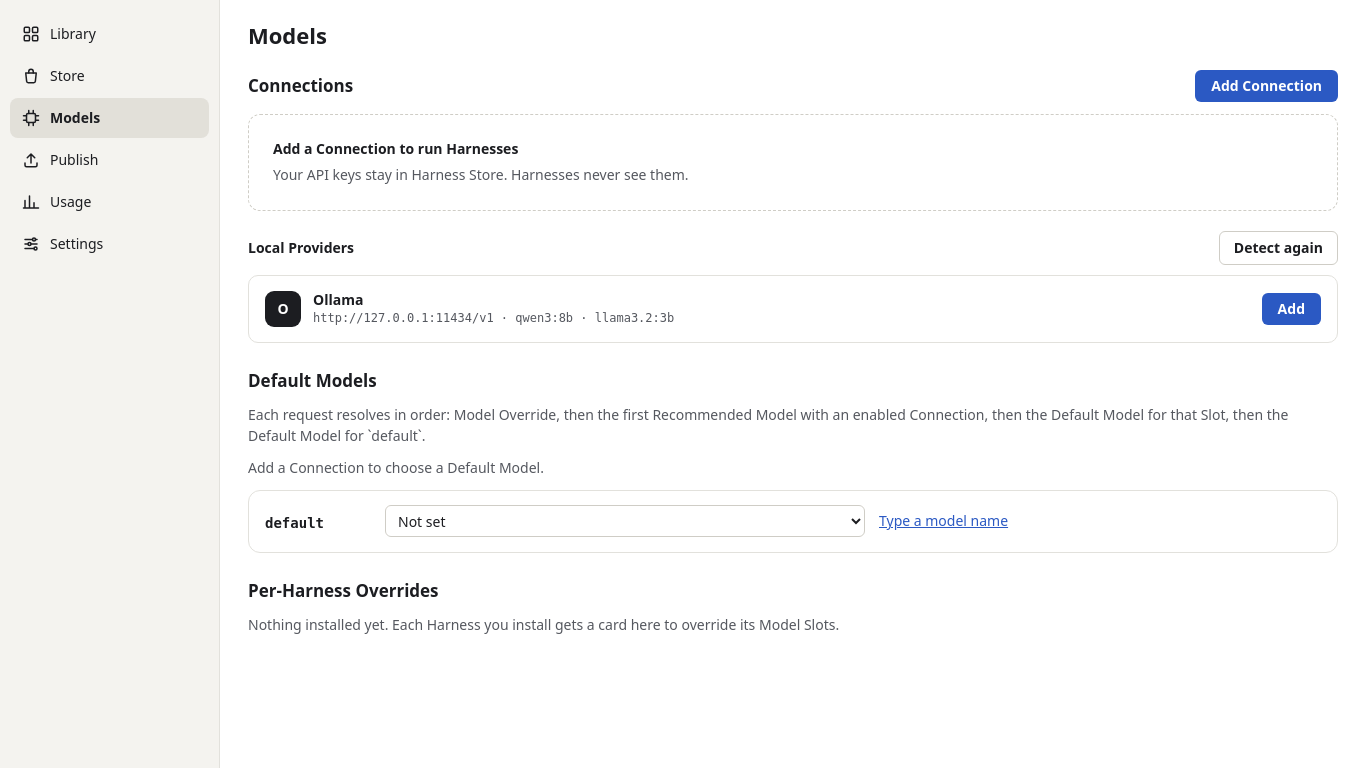
Test: Models page: Local Providers › shows the error of a failed Add, and keeps offering it
The image size is (1366, 768).
Click the button named "Add Ollama" at (1291, 309), box x1=1262 y1=293 x2=1321 y2=325
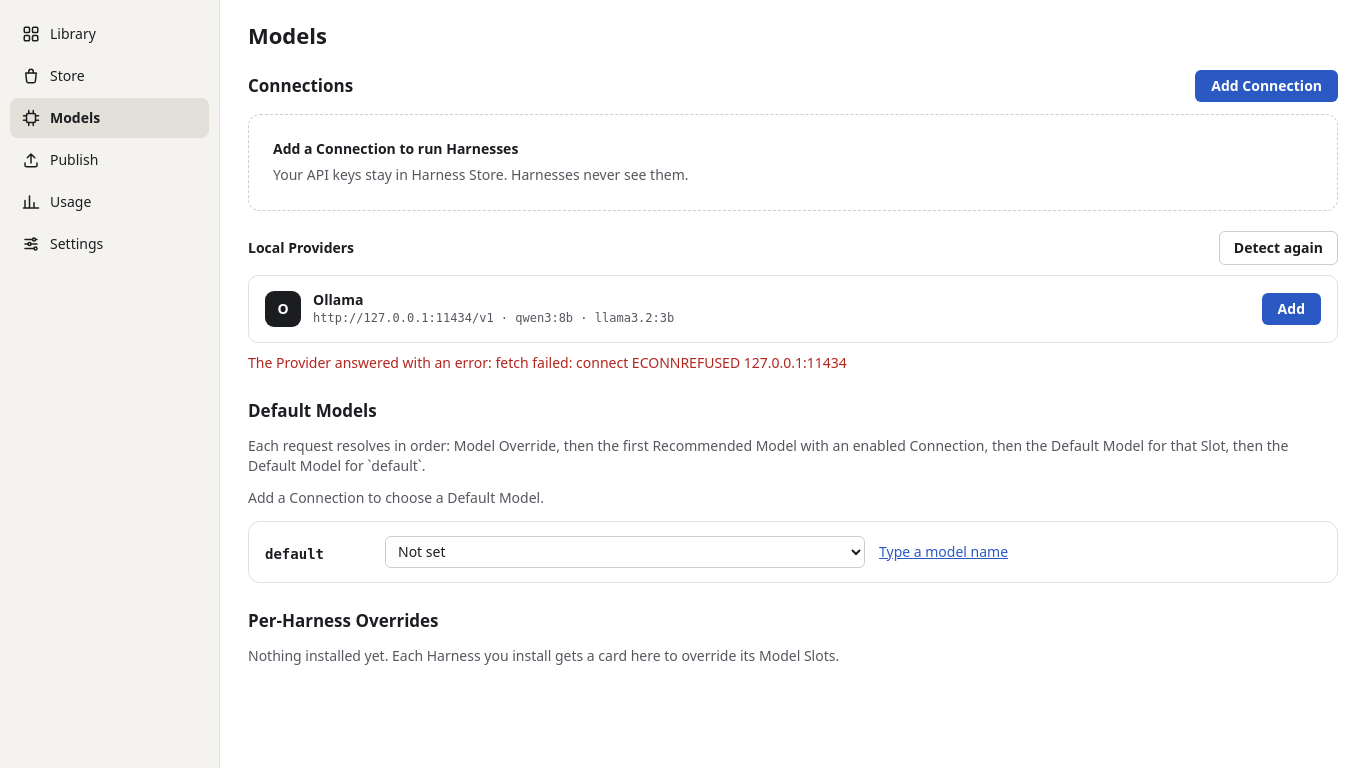
Now the message shows "fetch failed: connect ECONNREFUSED 127.0.0.1:11434", box x1=248 y1=353 x2=847 y2=372
